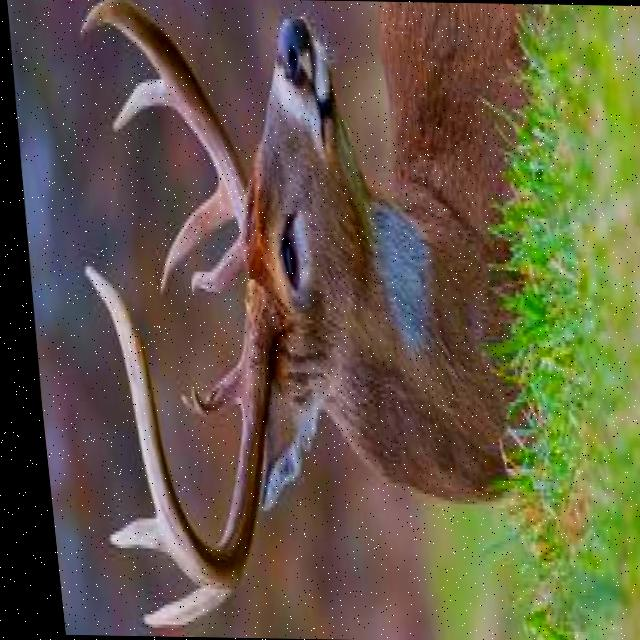L-F: (76, 0, 248, 274)
L-G1: (182, 234, 239, 298)
L-G2: (151, 180, 230, 298)
L-G3: (107, 77, 173, 132)
R-G1: (180, 353, 233, 415)
R-G2: (125, 585, 221, 630)
R-G3: (93, 514, 153, 553)
R-G4: (74, 260, 274, 590)
